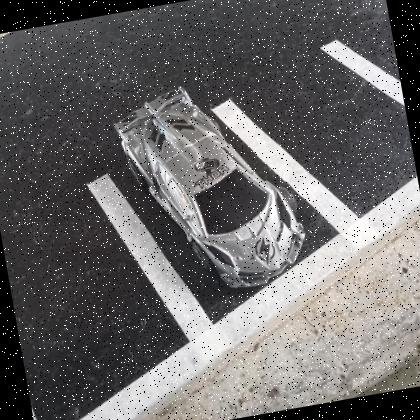Car: (114, 87, 305, 291)
